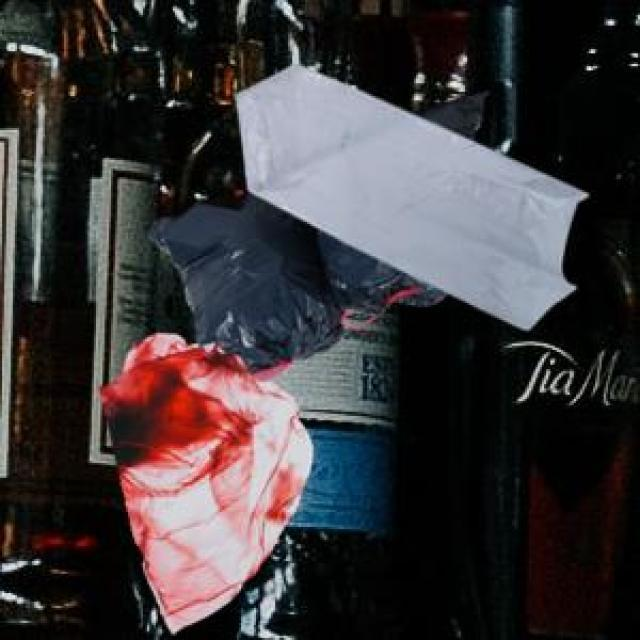miscellaneous trash: (141, 88, 483, 378)
